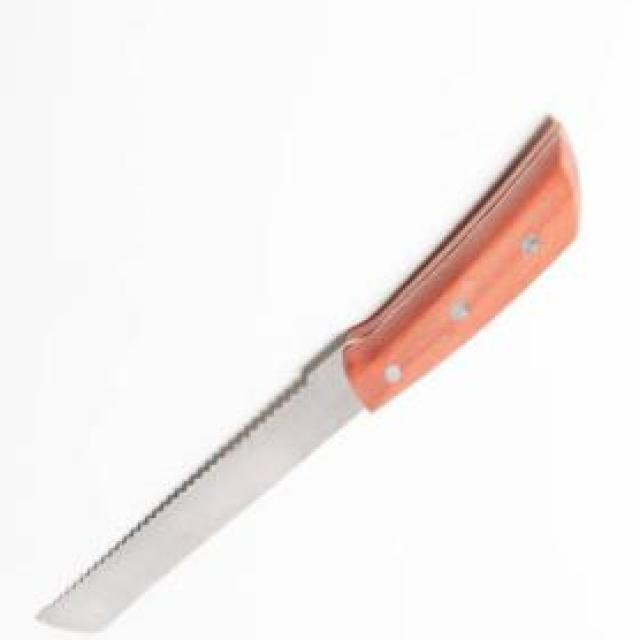knife: (37, 115, 582, 640)
